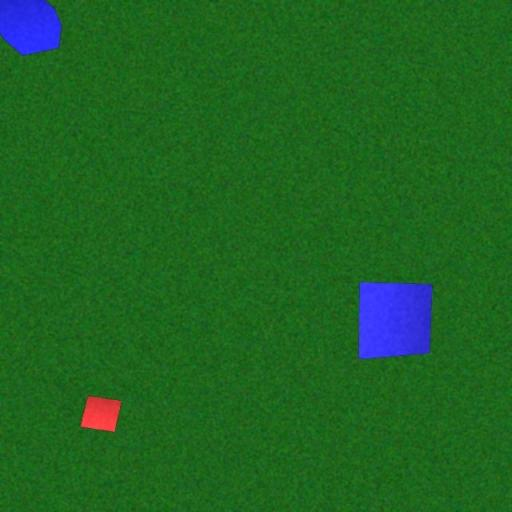BLUE_SQUARE: (358, 282, 433, 359)
RED_SQUARE: (79, 394, 123, 433)
